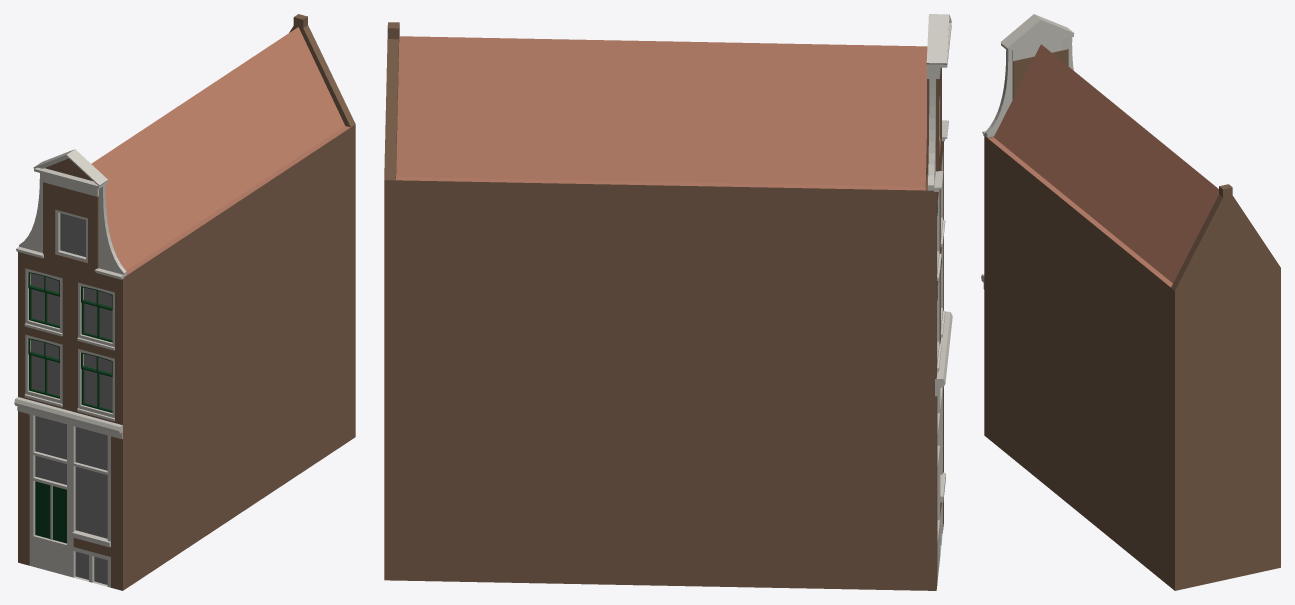
The model's file is Kattenburgerplein_2.fbx.
The picture shows the model from 3 angles, left to right: view 1: azimuth 30°, elevation 25°; view 2: azimuth 150°, elevation 25°; view 3: azimuth 270°, elevation 25°; orthographic projection. The views are drawn at different scales.
Visible parts, largest first — view 1: Kattenburgerplein_2, Kattenburgerplein_2_roof, Kattenburgerplein_2_lower_frame, Top_gable_pediment, Kattenburgerplein_2_lower_frame_doors, Cube.001, top_gable_deco.001, window_frame_type2.005, window_frame_type2.002, window_frame_type2.001, window_frame_type2.003, top_gable_deco (+1 smaller); view 2: Kattenburgerplein_2, Kattenburgerplein_2_roof, Top_gable_pediment, Kattenburgerplein_2_lower_frame, top_gable_deco; view 3: Kattenburgerplein_2, Kattenburgerplein_2_roof, Top_gable_pediment, top_gable_deco.001.
Boxes of the visible parts, x1,y1,x2,y2 form: Kattenburgerplein_2: [18, 14, 355, 590]; Kattenburgerplein_2_roof: [91, 27, 350, 274]; Kattenburgerplein_2_lower_frame: [29, 414, 110, 587]; Top_gable_pediment: [33, 149, 107, 196]; Kattenburgerplein_2_lower_frame_doors: [35, 481, 66, 543]; Cube.001: [14, 397, 122, 438]; top_gable_deco.001: [94, 185, 126, 279]; window_frame_type2.005: [25, 334, 62, 403]; window_frame_type2.002: [78, 349, 114, 417]; window_frame_type2.001: [25, 268, 62, 332]; window_frame_type2.003: [78, 282, 114, 347]; top_gable_deco: [16, 173, 43, 258]; Kattenburgerplein_2: [384, 22, 943, 590]; Kattenburgerplein_2_roof: [395, 36, 927, 190]; Top_gable_pediment: [926, 14, 951, 78]; Kattenburgerplein_2_lower_frame: [937, 387, 945, 582]; top_gable_deco: [928, 67, 943, 191]; Kattenburgerplein_2: [984, 38, 1280, 590]; Kattenburgerplein_2_roof: [988, 44, 1218, 287]; Top_gable_pediment: [1000, 14, 1074, 61]; top_gable_deco.001: [982, 50, 1012, 137].
Bounding box in the file's own units: 1522 × 1594 × 1064.
